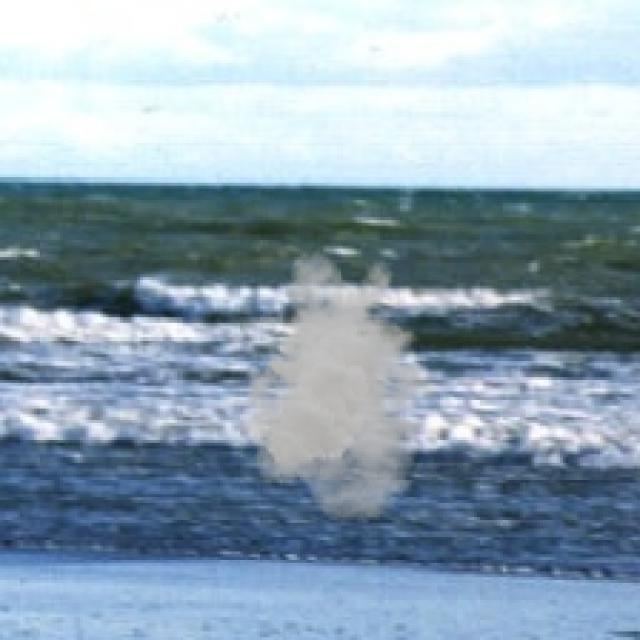smoke: (237, 248, 452, 523)
